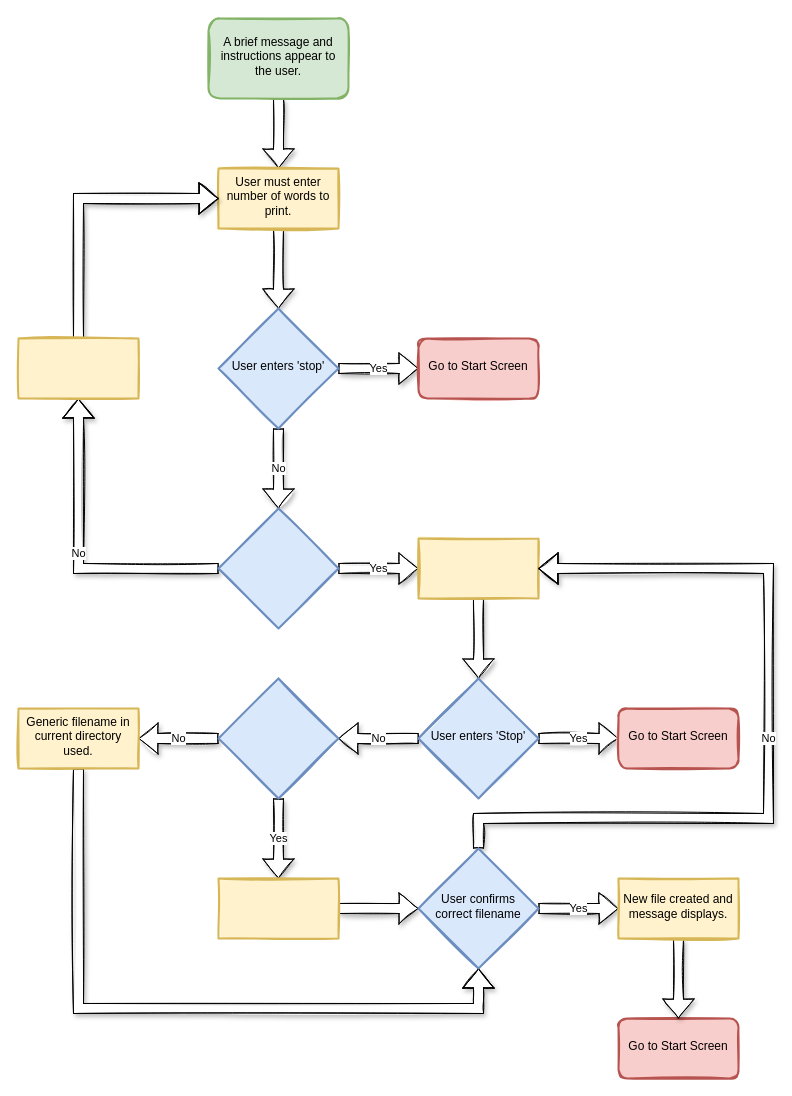
This 792x1096 diagram has some shape labels left out. The shapes that lost their labels are listed below. From the top down, each one's centre as x and y in pixels, then its label:
At pixel 78 368: "Error message displays".
At pixel 278 568: "User enters integer less than total words".
At pixel 478 568: "User must enter a file path".
At pixel 278 738: "User enters filename and directory".
At pixel 278 908: "Custom filename in current directory used.".
